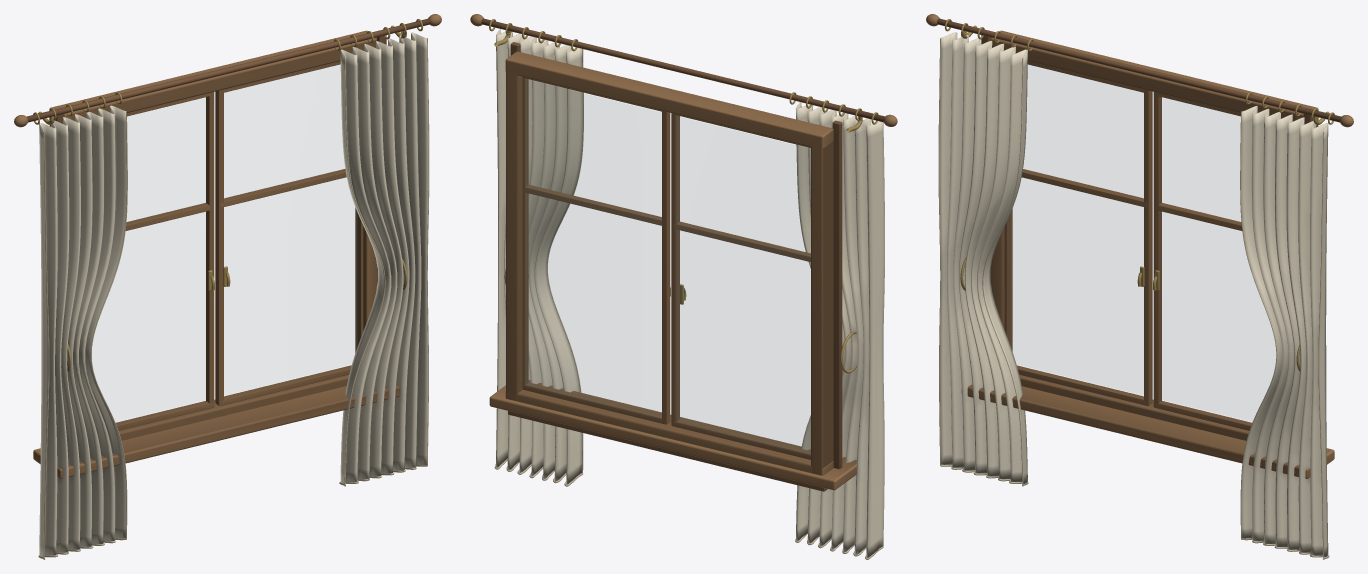
Rendered from window.glb.
3 renders of one model, left to right at view 1: azimuth 30°, elevation 25°; view 2: azimuth 150°, elevation 25°; view 3: azimuth 330°, elevation 25°, orthographic.
Parts seen in each view (by area): view 1: Atelier_Window; view 2: Atelier_Window; view 3: Atelier_Window.
Boxes of the visible parts, x1,y1,x2,y2 form: Atelier_Window: (14, 14, 441, 559); Atelier_Window: (470, 14, 897, 559); Atelier_Window: (926, 14, 1353, 559).
Bounding box in the file's own units: 3.63 × 3.65 × 0.4847.
